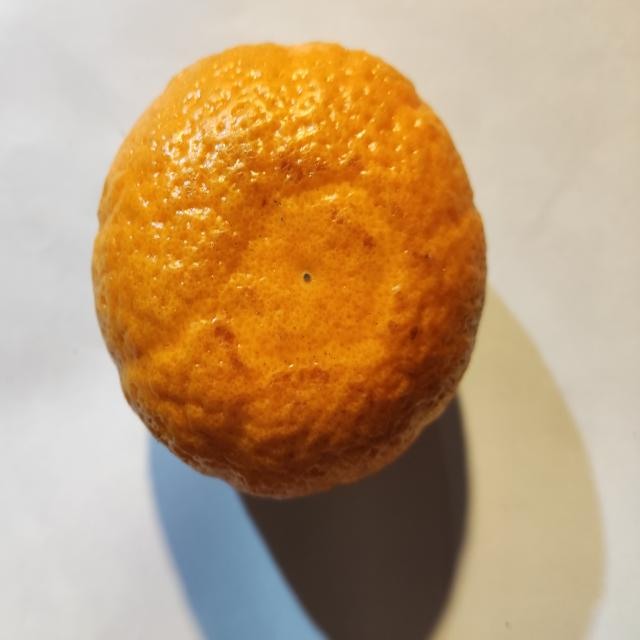orange: (93, 44, 485, 496)
